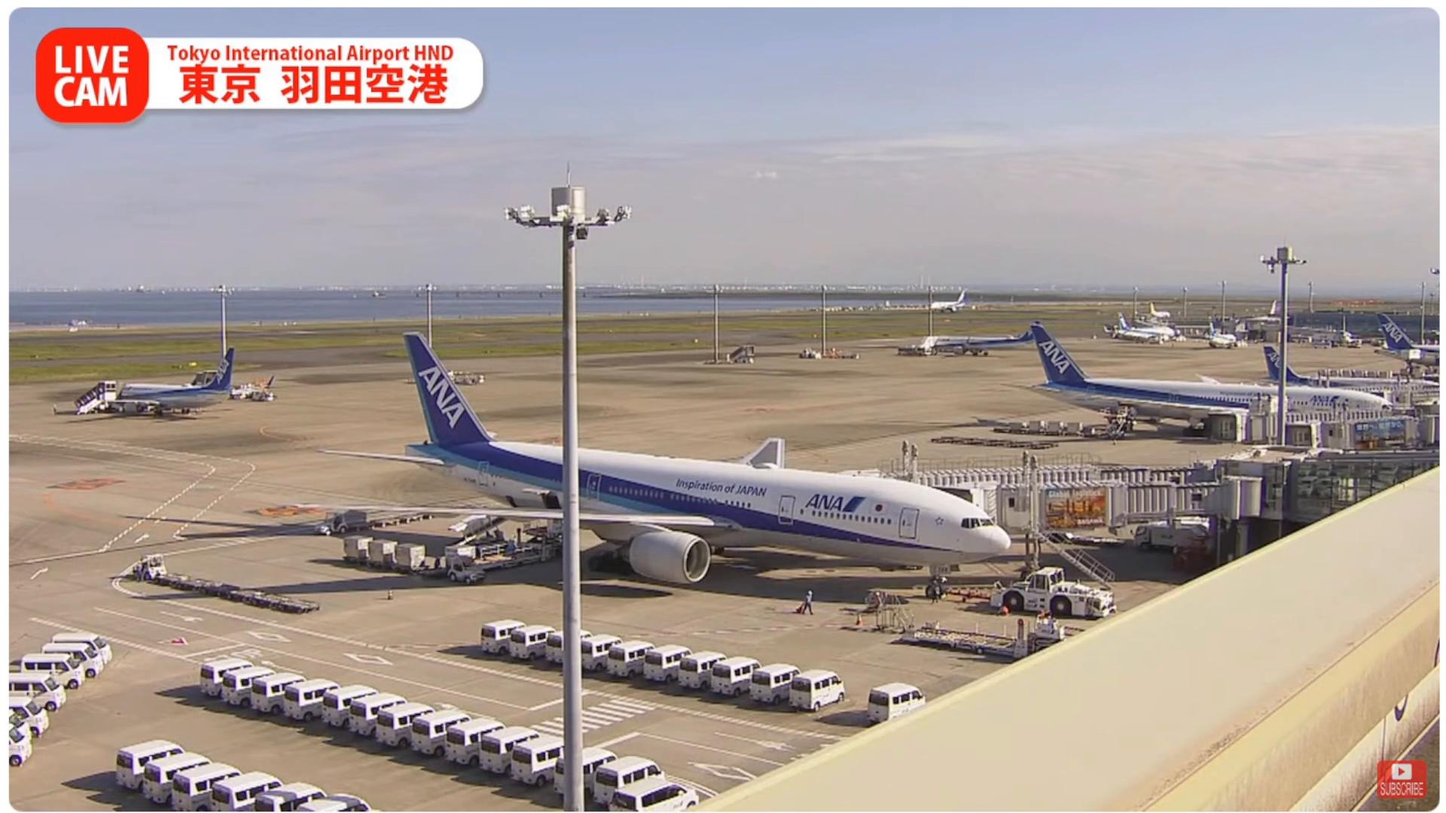APS: (996, 560, 1119, 616)
Aerobridge: (956, 480, 1243, 535), (885, 461, 1213, 481)
Airplane: (290, 330, 1014, 584)
Dolly: (149, 575, 317, 616), (333, 546, 451, 578), (351, 509, 435, 536)
JCPL: (908, 614, 1089, 661), (460, 516, 565, 572)
Skyloader: (446, 508, 507, 552)
Tractor: (442, 554, 491, 591), (313, 513, 351, 538), (138, 553, 164, 582)
Window: (1270, 448, 1442, 536)
